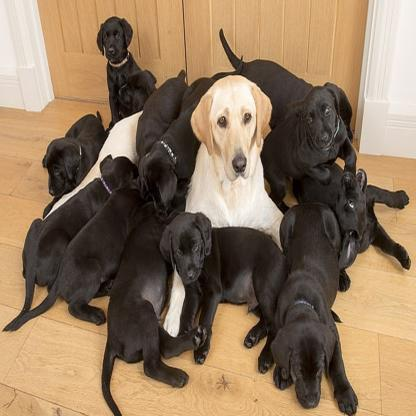dog: (47, 74, 285, 333), (272, 165, 411, 413), (94, 202, 212, 416), (9, 155, 133, 334), (219, 30, 360, 175), (159, 212, 285, 352), (48, 164, 157, 320), (96, 18, 156, 110), (41, 126, 112, 188)
